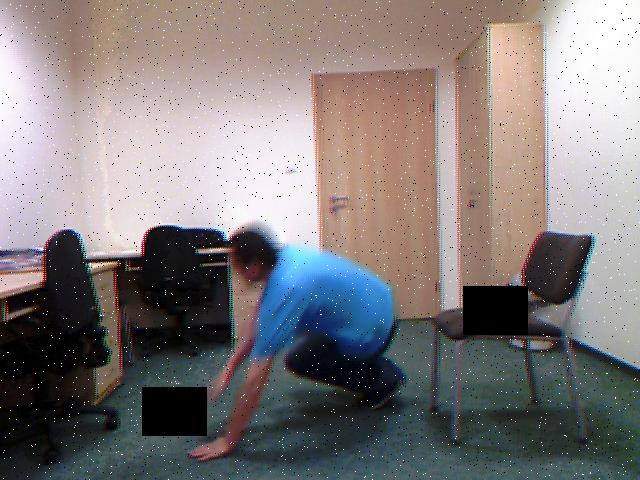fall: (191, 216, 414, 477)
